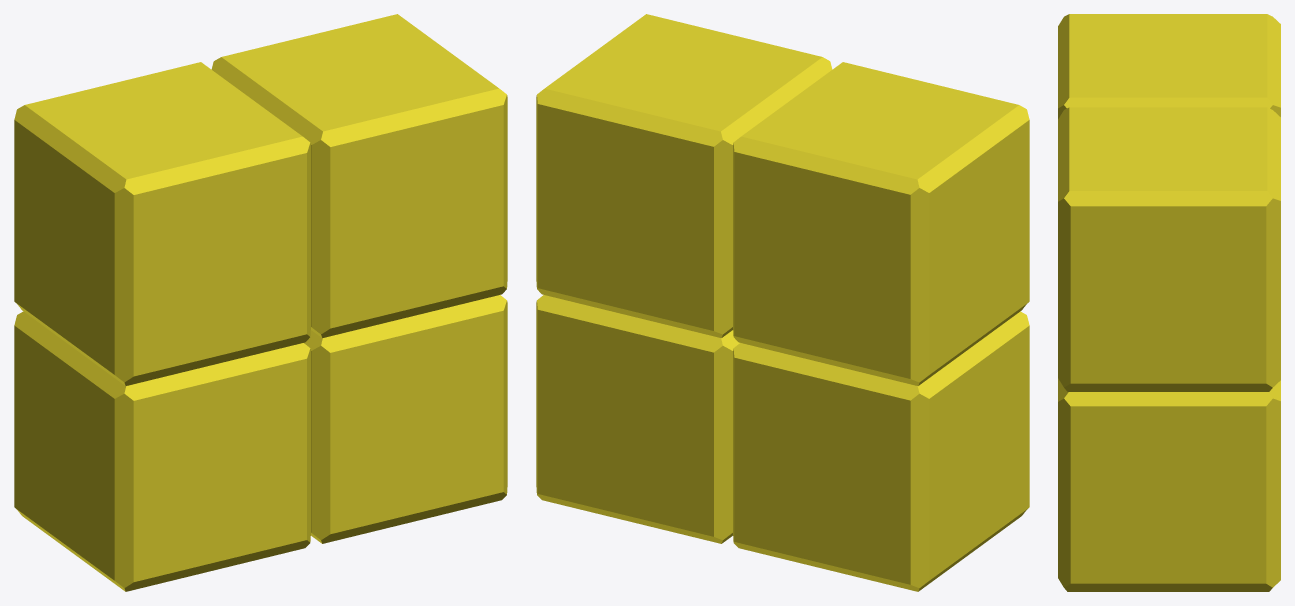
Rendered from pieza1.fbx.
The picture shows the model from 3 angles, left to right: view 1: azimuth 30°, elevation 25°; view 2: azimuth 150°, elevation 25°; view 3: azimuth 270°, elevation 25°; orthographic projection. The views are drawn at different scales.
Visible parts, largest first — view 1: Cube.003, Cube.001, Cube.002, Cube; view 2: Cube.003, Cube.001, Cube.002, Cube; view 3: Cube.002, Cube, Cube.003.
Boxes of the visible parts, box(x1,y1,x2,y2) form: Cube.003: box(14, 62, 310, 385); Cube.001: box(14, 311, 310, 591); Cube.002: box(211, 14, 507, 337); Cube: box(304, 295, 507, 543); Cube.003: box(733, 62, 1029, 385); Cube.001: box(733, 311, 1029, 591); Cube.002: box(536, 14, 832, 337); Cube: box(536, 295, 739, 543); Cube.002: box(1058, 107, 1280, 391); Cube: box(1058, 378, 1280, 591); Cube.003: box(1058, 14, 1280, 118).
Size of the model in its own units: 422 by 423 by 213.
